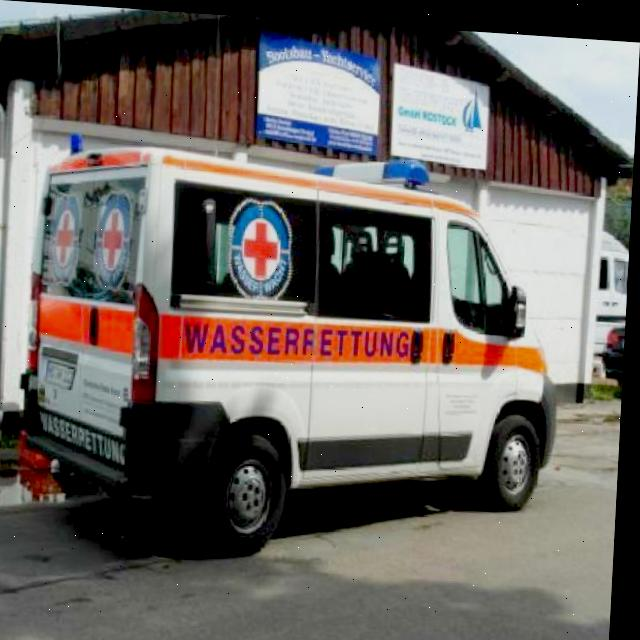emergency: (16, 129, 571, 567)
